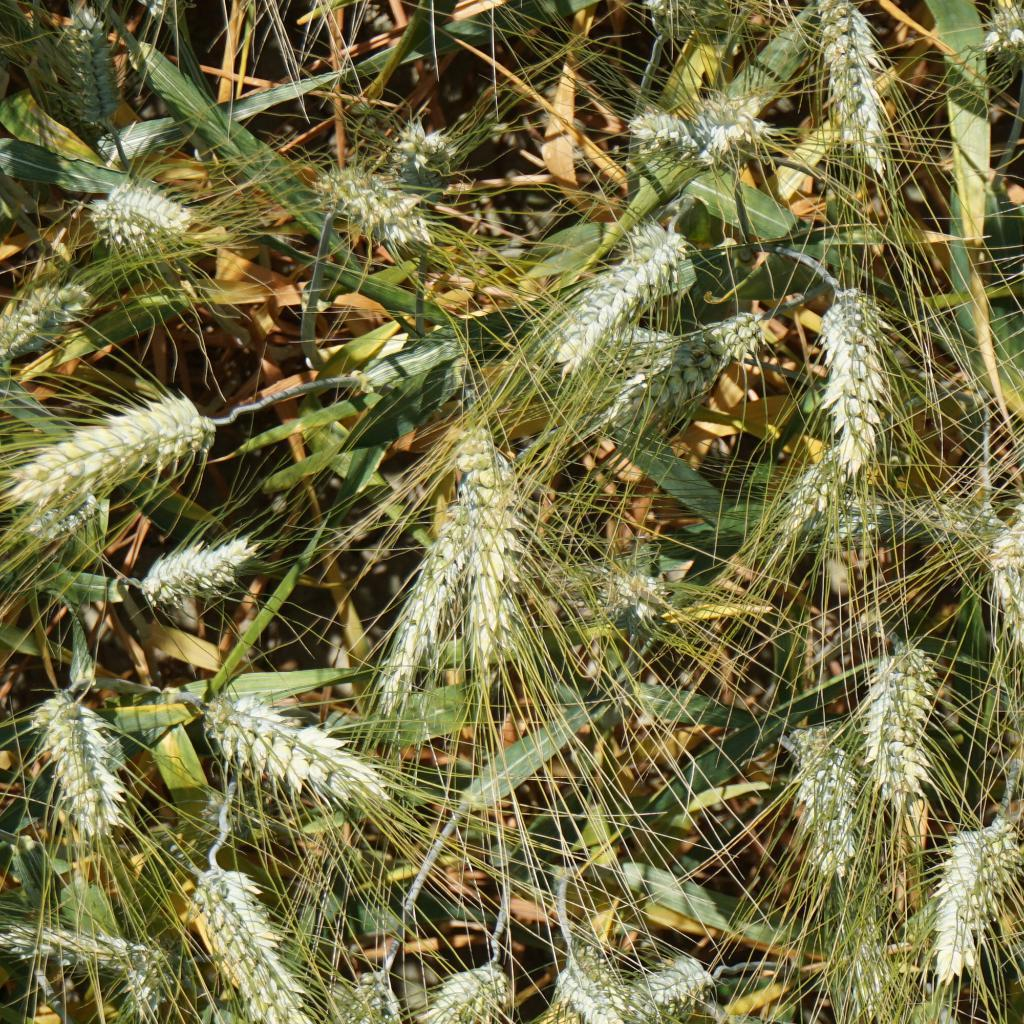0-0: (545, 312, 785, 439), (196, 678, 386, 807), (525, 205, 680, 349), (194, 864, 308, 1024), (452, 435, 529, 666), (0, 401, 217, 482), (925, 807, 1024, 982), (861, 635, 948, 817), (806, 0, 893, 165), (41, 686, 133, 841), (806, 281, 884, 456), (773, 720, 861, 870), (399, 509, 461, 698), (751, 436, 847, 555), (373, 951, 528, 1024), (822, 883, 899, 1018), (130, 534, 254, 613), (0, 909, 154, 972), (48, 11, 122, 139), (315, 168, 429, 251), (92, 178, 202, 261), (606, 951, 721, 1024), (0, 267, 89, 349), (550, 939, 635, 1024), (978, 531, 1024, 668), (588, 560, 670, 631), (12, 476, 119, 530), (627, 96, 713, 158), (887, 493, 979, 542), (329, 964, 402, 1024), (636, 0, 716, 50), (591, 316, 671, 365), (699, 95, 770, 150), (117, 965, 175, 1024), (985, 464, 1024, 546), (394, 116, 457, 162), (883, 991, 970, 1024), (992, 11, 1024, 73)
